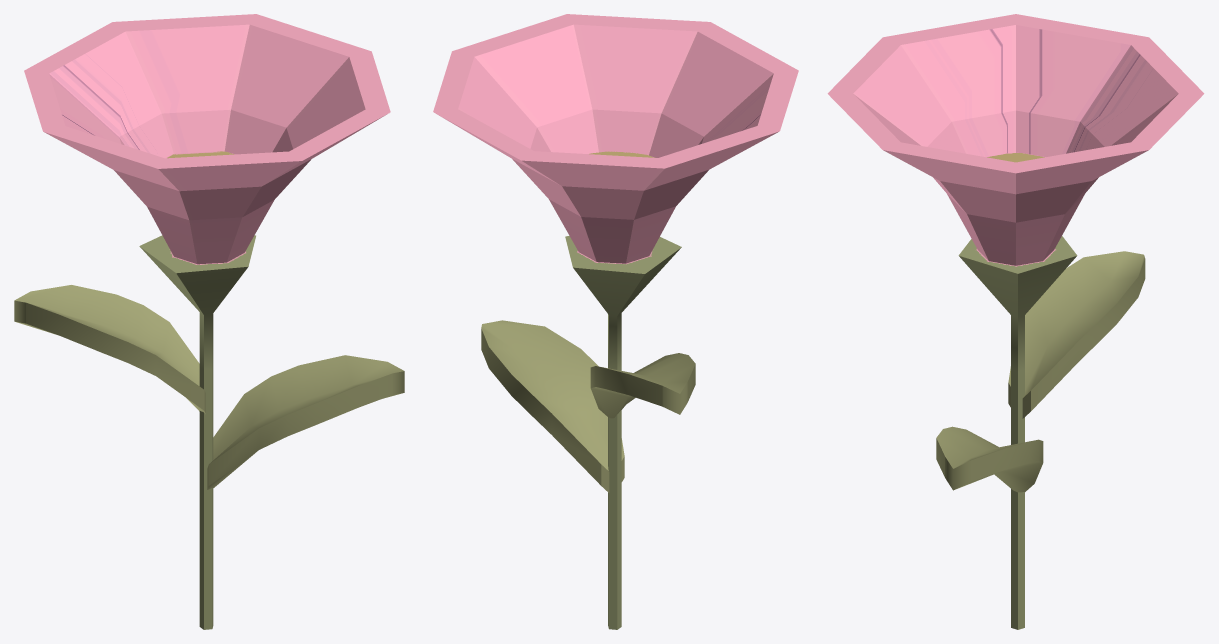
The model's file is flower03.fbx.
The picture shows the model from 3 angles, left to right: view 1: azimuth 30°, elevation 25°; view 2: azimuth 150°, elevation 25°; view 3: azimuth 270°, elevation 25°; orthographic projection.
Visible parts, largest first — view 1: node_id9, node_id5, node_id6, node_id7; view 2: node_id9, node_id5, node_id7, node_id6; view 3: node_id9, node_id6, node_id7, node_id5.
Part boxes in pixels (x1,y1,x2,y2): node_id9: (24, 14, 390, 264); node_id5: (207, 355, 404, 489); node_id6: (14, 285, 205, 413); node_id7: (139, 235, 255, 629); node_id9: (433, 14, 798, 263); node_id5: (481, 320, 624, 492); node_id7: (565, 235, 681, 629); node_id6: (590, 353, 695, 418); node_id9: (827, 14, 1204, 265); node_id6: (1008, 251, 1145, 418); node_id7: (958, 236, 1077, 629); node_id5: (936, 426, 1043, 492).
Bounding box in the file's own units: 0.3298 × 0.512 × 0.3284.
Materials: 5 (3 with a texture image).
